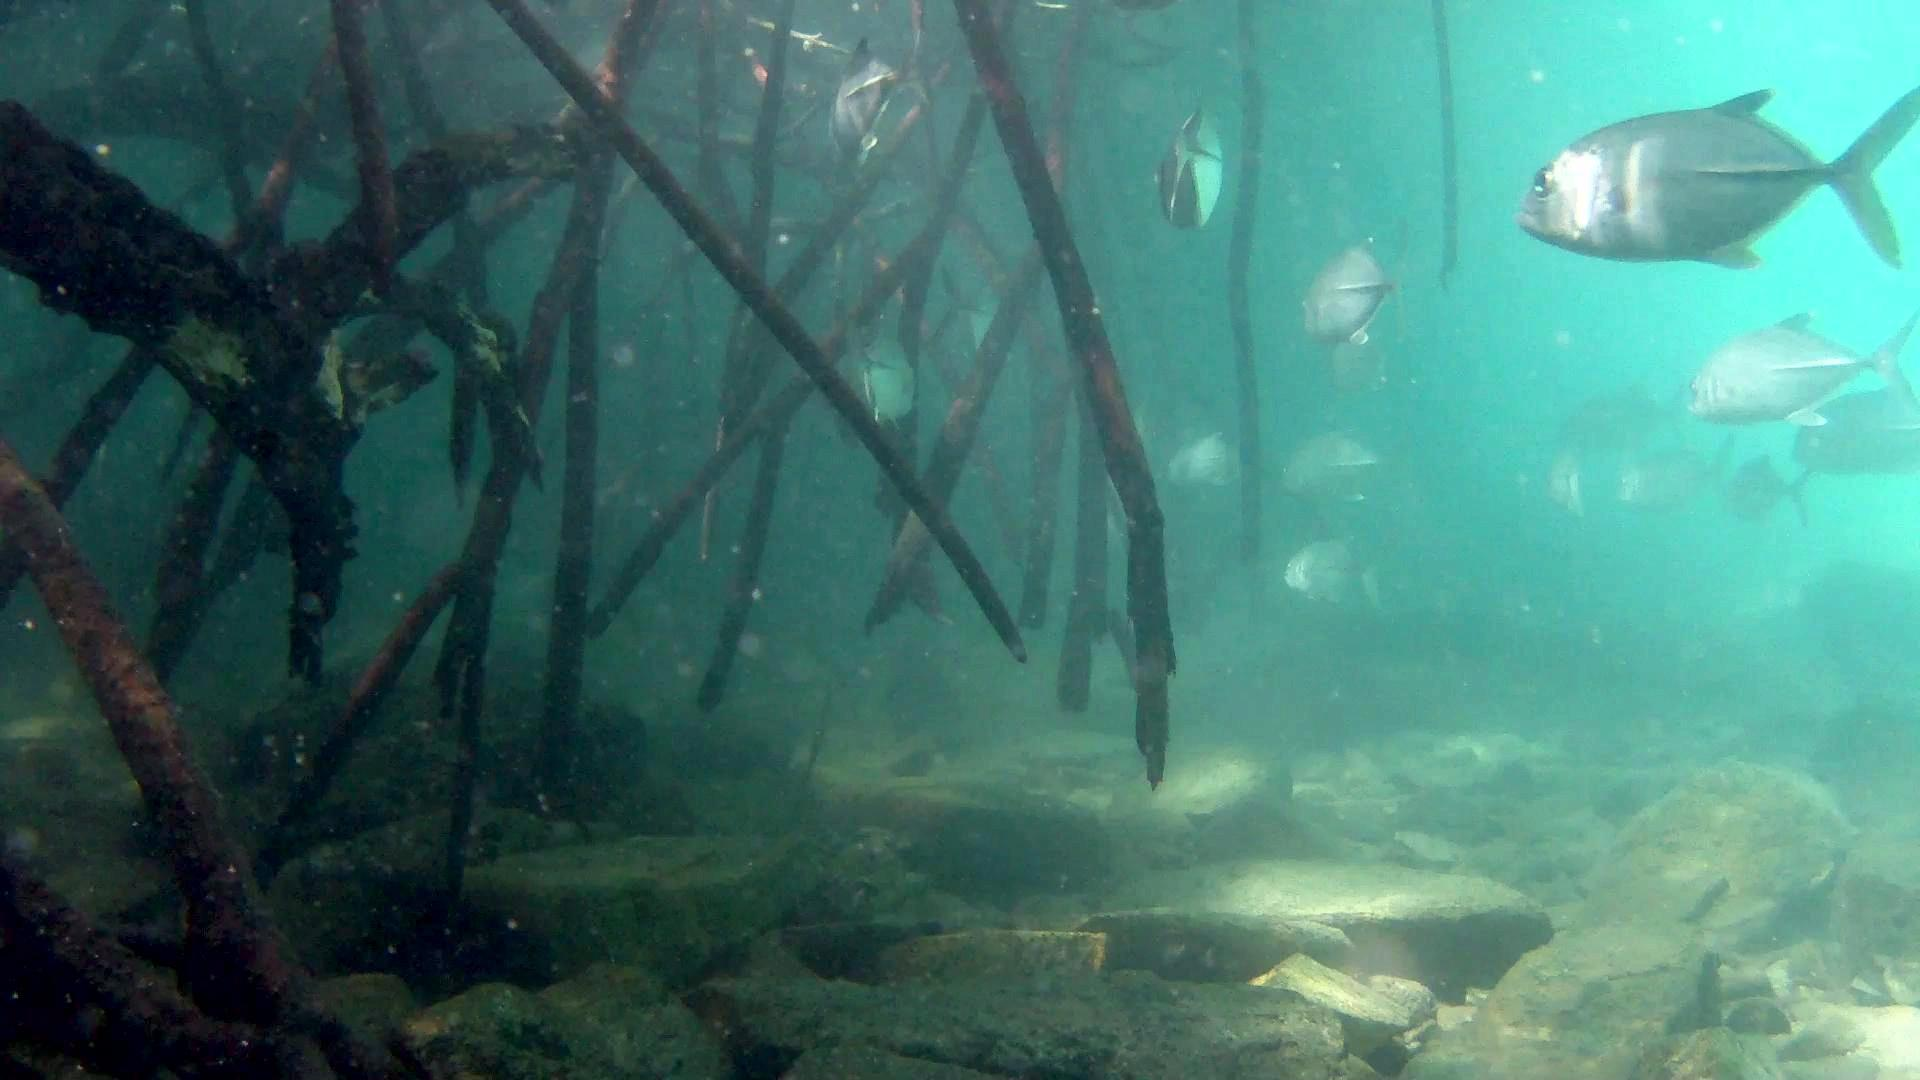caranx: (1503, 80, 1920, 276), (1660, 306, 1920, 442)
